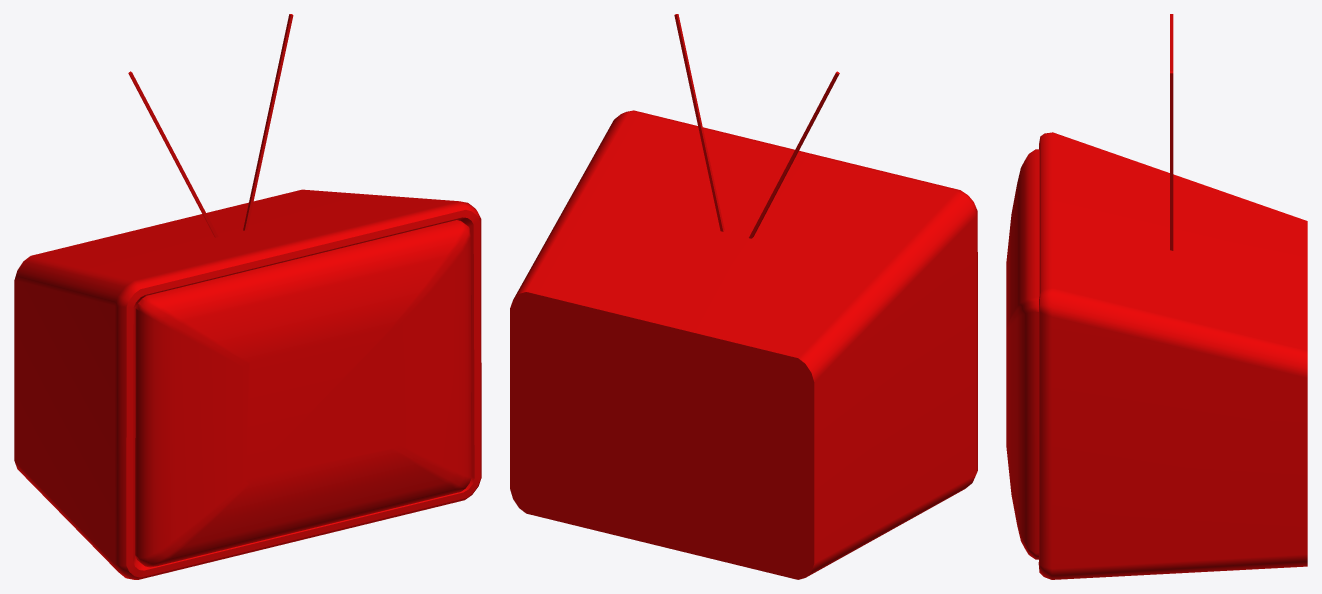
The model's file is Muse_tv1_exp_001.fbx.
The picture shows the model from 3 angles, left to right: view 1: azimuth 30°, elevation 25°; view 2: azimuth 150°, elevation 25°; view 3: azimuth 270°, elevation 25°; orthographic projection. The views are drawn at different scales.
Visible parts, largest first — view 1: pCube1, pCube3, pCube2; view 2: pCube1, pCube3, pCube2; view 3: pCube1, pCube3.
Part boxes in pixels (x1,y1,x2,y2): pCube1: [14, 189, 481, 579]; pCube3: [243, 14, 293, 230]; pCube2: [128, 71, 218, 237]; pCube1: [510, 110, 977, 579]; pCube3: [674, 14, 724, 231]; pCube2: [749, 71, 839, 238]; pCube1: [1006, 132, 1307, 579]; pCube3: [1170, 71, 1173, 250].
Size of the model in its own units: 1.51 by 1.85 by 1.11.
